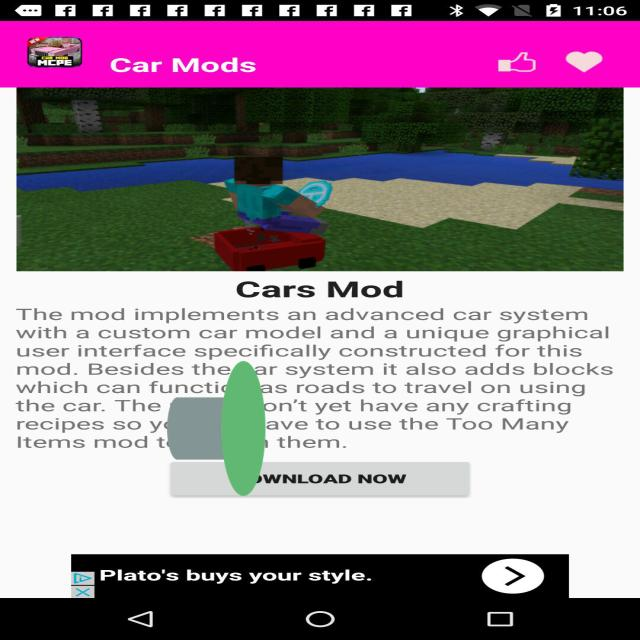social proof: (167, 278, 266, 579)
